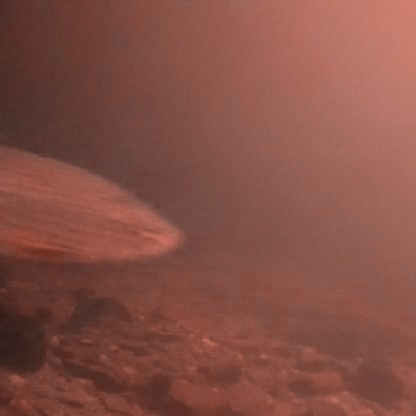salmon: (0, 143, 189, 267)
